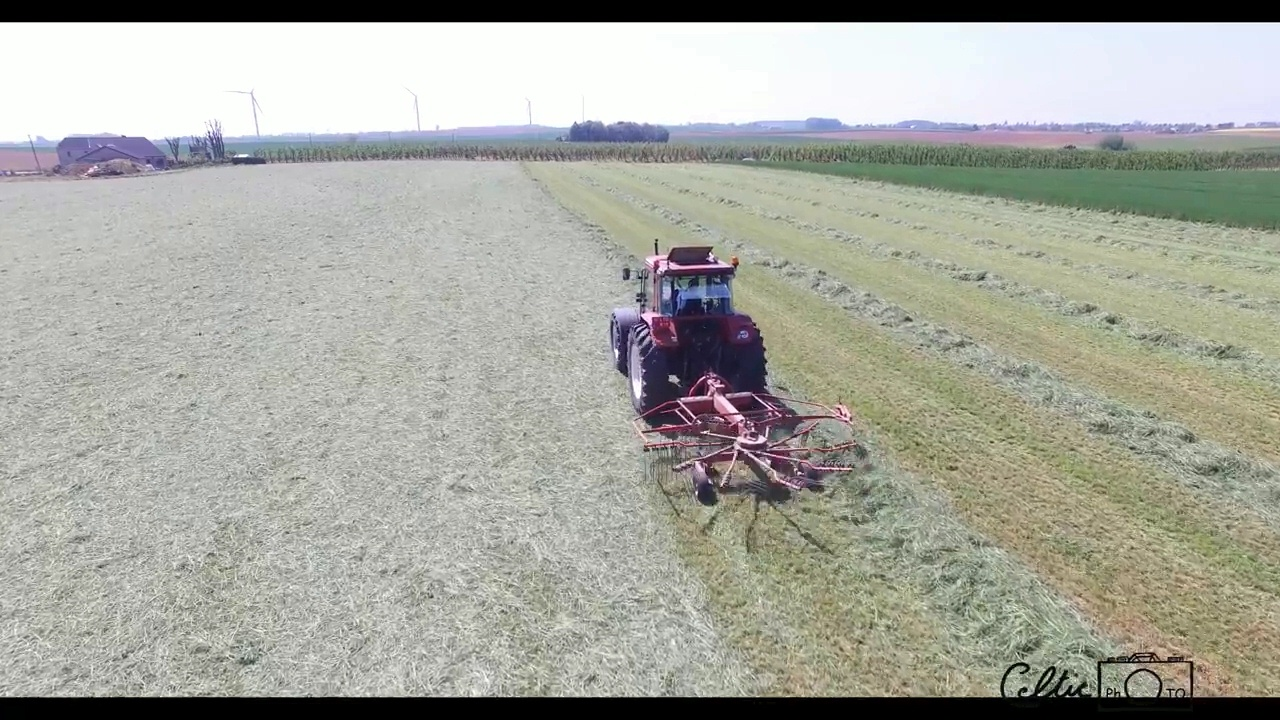traktor: (603, 234, 771, 422)
